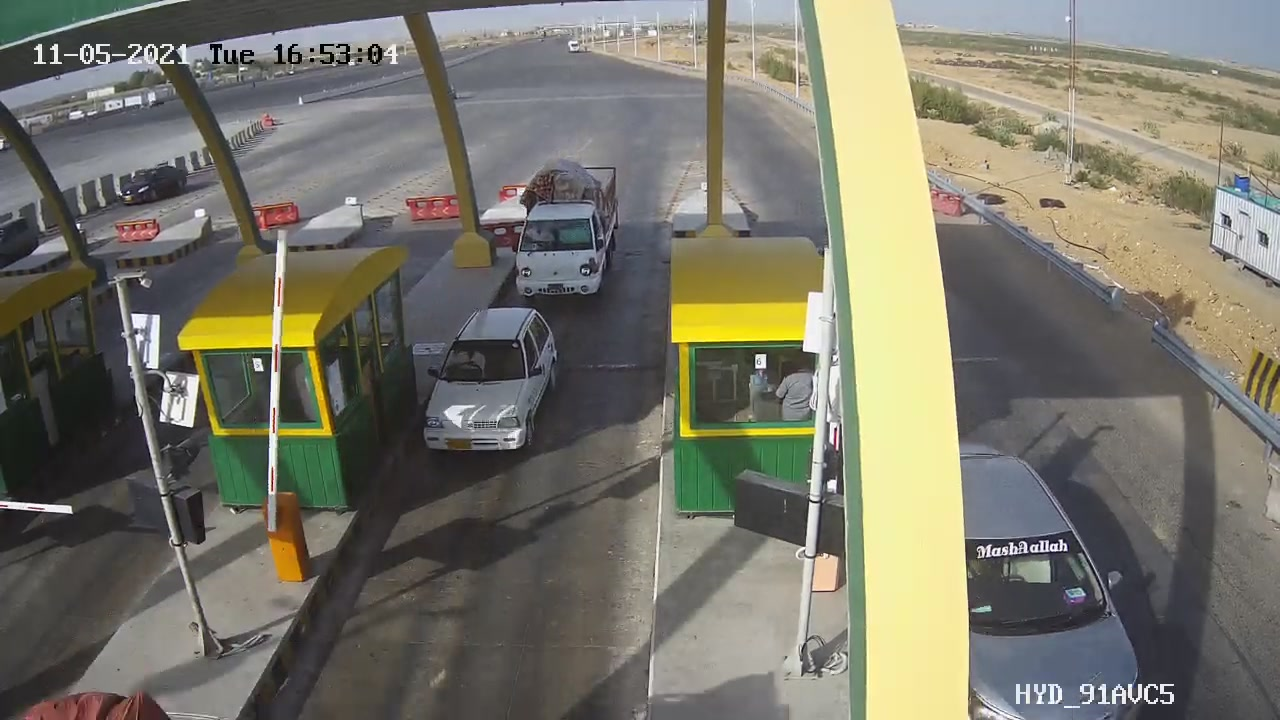F1: (402, 293, 571, 469)
F2: (510, 151, 627, 314)
